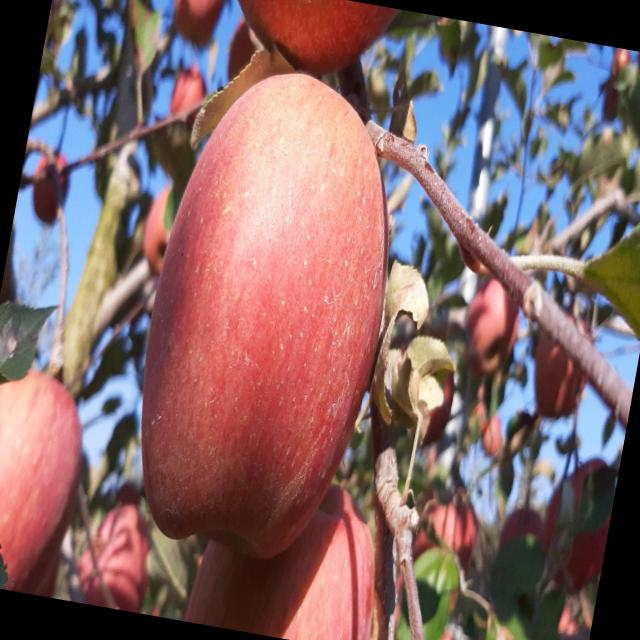fresh: (108, 39, 432, 588)
